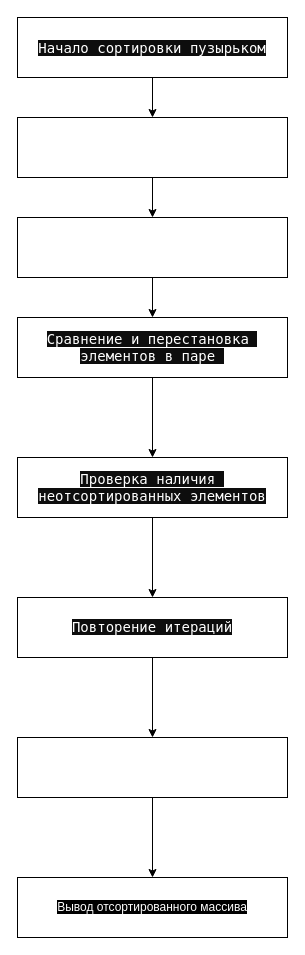
Some shapes in this 305 by 955 pixel diagram are drawn without their labels. The shapes that lost their labels are listed below. From the top down, each one's centre as x and y in pixels, then its label:
point (152, 147): Инициализация переменных
point (152, 247): Первая итерация
point (152, 767): Проверка на завершение сортировки
